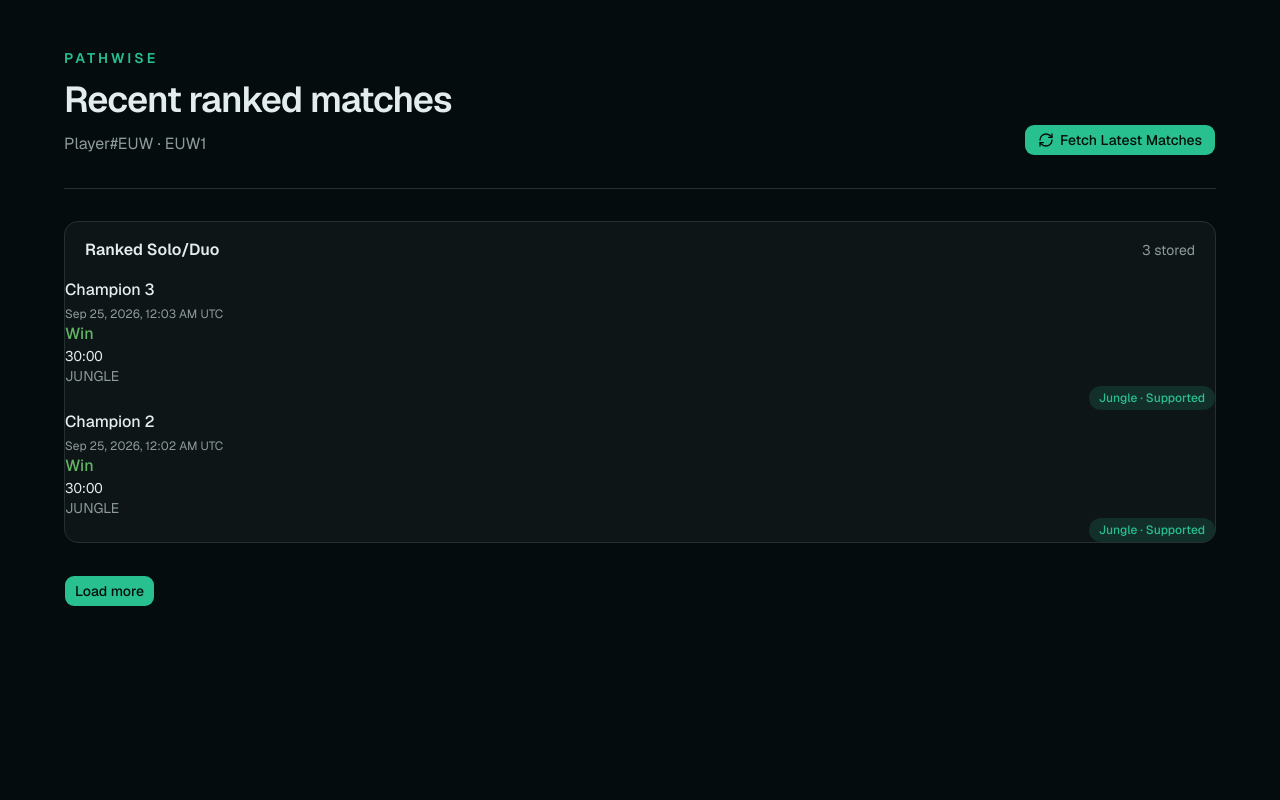
Test case: keeps loaded rows after a failed page and deduplicates a repeated row
Check: the text "3 stored" is shown, box top-left (1142, 240), bottom-right (1195, 260)
Click the button "Load more" at (110, 591), box top-left (64, 575), bottom-right (155, 607)
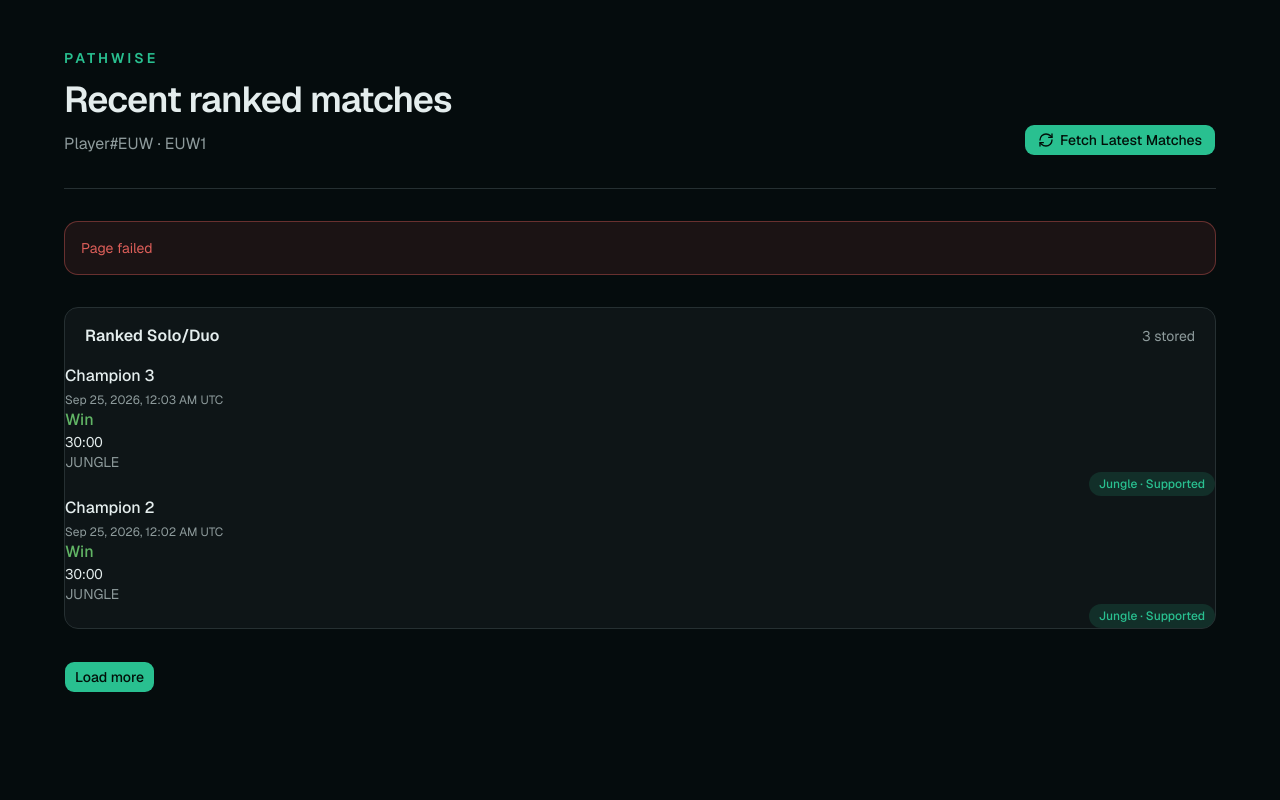
Check: the number of links is 2, box top-left (65, 364), bottom-right (1215, 496); top-left (65, 496), bottom-right (1215, 628)
Check: the message reads "Page failed", box top-left (81, 239), bottom-right (153, 257)
Click the button "Load more" at (110, 677), box top-left (64, 661), bottom-right (155, 693)
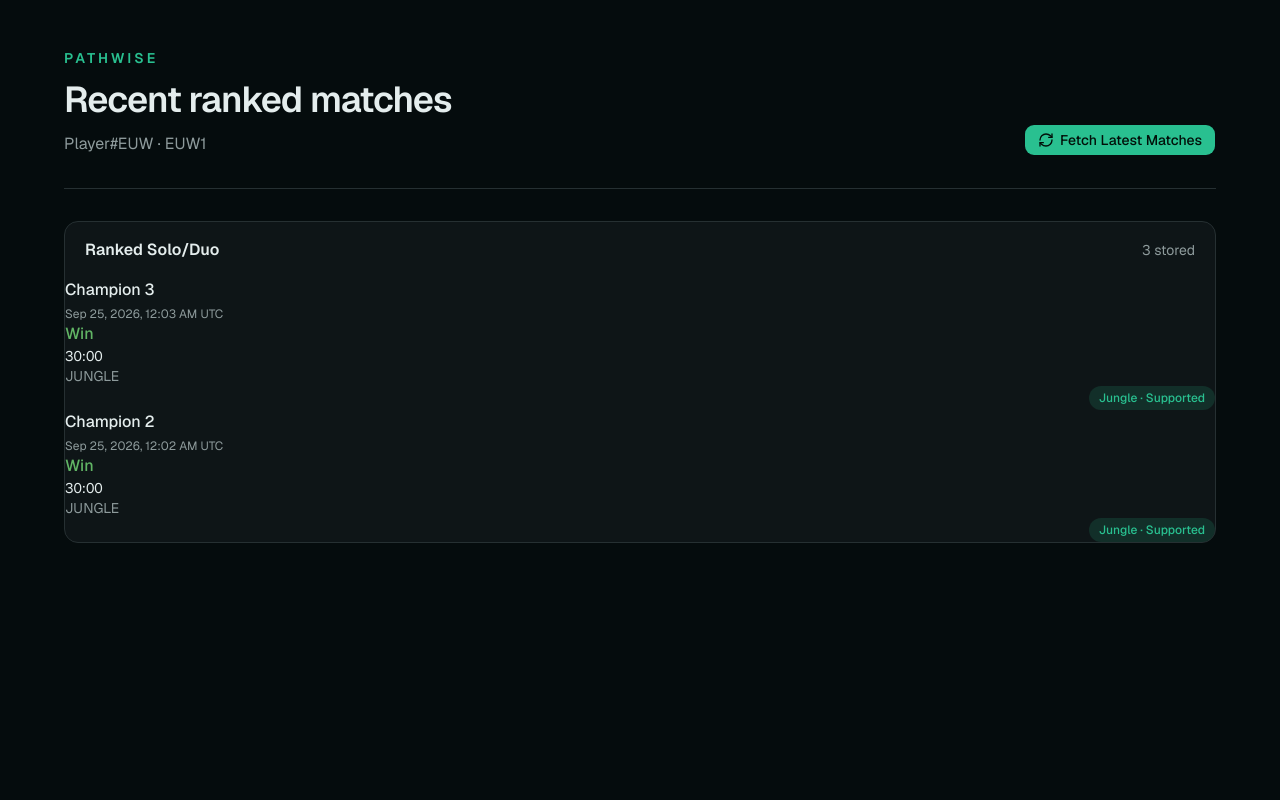
Check: the number of links is 2, box top-left (65, 278), bottom-right (1215, 410); top-left (65, 410), bottom-right (1215, 542)
Check: the button "Load more" is gone
